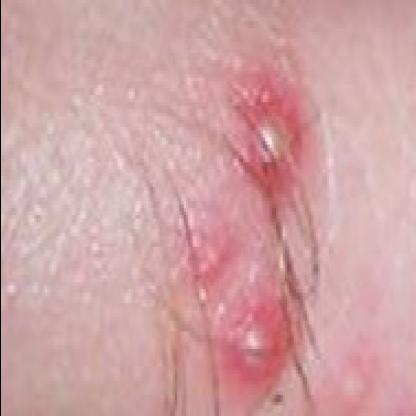Fire ant: (183, 53, 319, 409), (339, 332, 383, 413)
